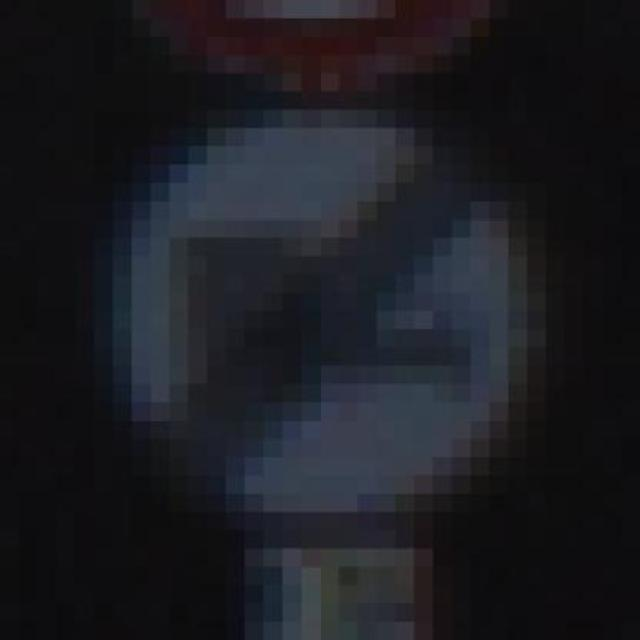Overtaking by trucks is prohibited: (37, 73, 621, 549)
